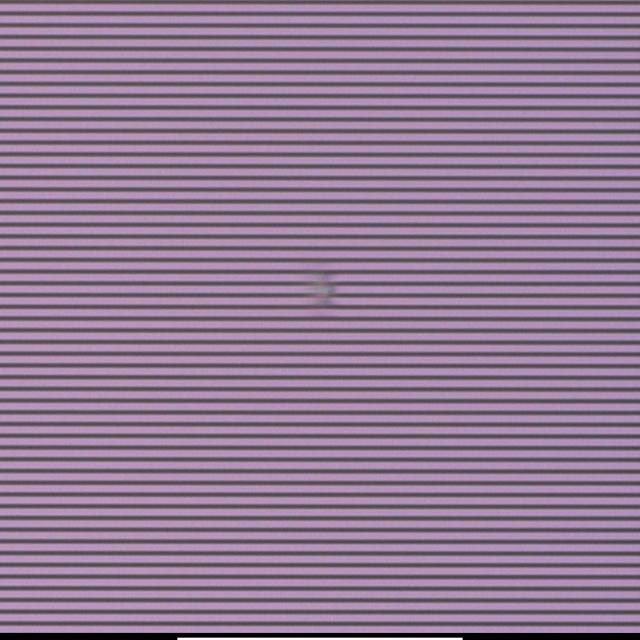nonvisual: (308, 266, 341, 314)
